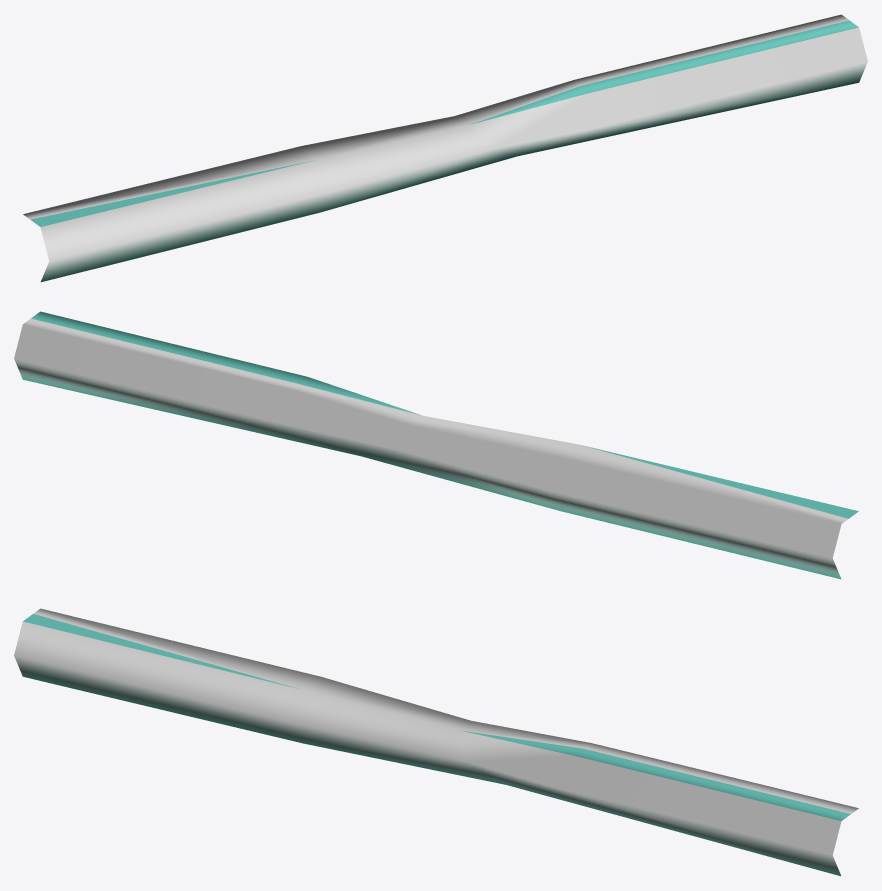
The model's file is PipeFenceBar_16.glb.
The picture shows the model from 3 angles, top to bottom: view 1: azimuth 30°, elevation 25°; view 2: azimuth 150°, elevation 25°; view 3: azimuth 330°, elevation 25°; orthographic projection.
Parts seen in each view (by area): view 1: PipeFenceBar; view 2: PipeFenceBar; view 3: PipeFenceBar.
Boxes of the visible parts, <box> form: PipeFenceBar: <box>23,14,867,282</box>; PipeFenceBar: <box>14,311,858,579</box>; PipeFenceBar: <box>14,608,858,876</box>.
Bounding box in the file's own units: 0.9561 × 0.0618 × 0.0743.
